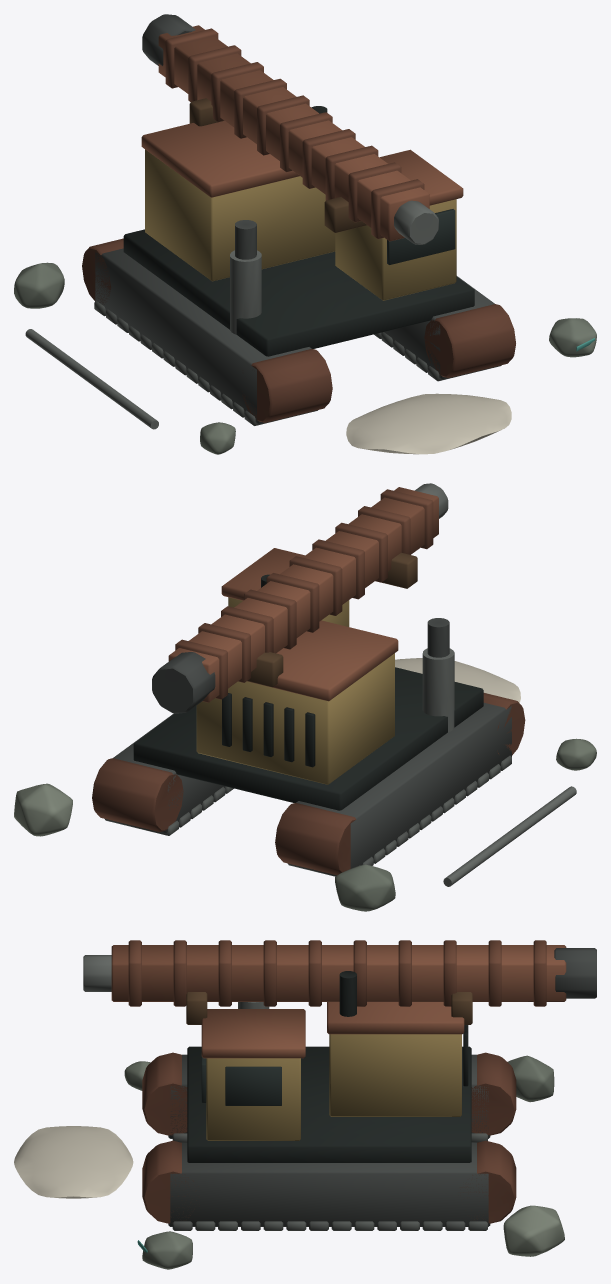
Rendered from drill_rig_wreck_a.glb.
The picture shows the model from 3 angles, top to bottom: view 1: azimuth 30°, elevation 25°; view 2: azimuth 150°, elevation 25°; view 3: azimuth 270°, elevation 25°; orthographic projection.
Parts seen in each view (by area): view 1: Surface; view 2: Surface; view 3: Surface.
Boxes of the visible parts, x1,y1,x2,y2 form: Surface: [14, 14, 596, 454]; Surface: [14, 483, 596, 911]; Surface: [14, 940, 596, 1269].
Size of the model in its own units: 10.12 by 5.32 by 12.31.
